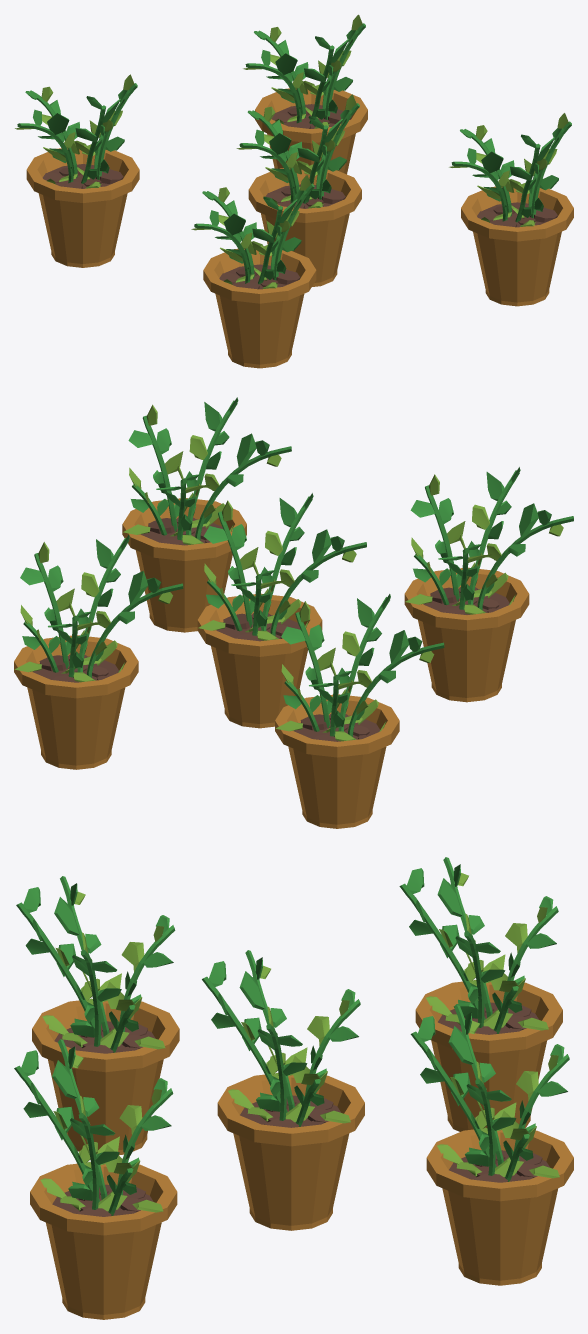
File: rose_1.gltf
The picture shows the model from 3 angles, top to bottom: view 1: azimuth 30°, elevation 25°; view 2: azimuth 150°, elevation 25°; view 3: azimuth 270°, elevation 25°; orthographic projection. The views are drawn at different scales.
Parts seen in each view (by area): view 1: node_MeshObject-1927842816-PolyPaper19.002, node_MeshObject-1927842816-PolyPaper19.003, node_MeshObject-1927842816-PolyPaper19.004, node_MeshObject-1927842816-PolyPaper19, node_MeshObject-1927842816-PolyPaper19.001; view 2: node_MeshObject-1927842816-PolyPaper19.001, node_MeshObject-1927842816-PolyPaper19.003, node_MeshObject-1927842816-PolyPaper19.002, node_MeshObject-1927842816-PolyPaper19, node_MeshObject-1927842816-PolyPaper19.004; view 3: node_MeshObject-1927842816-PolyPaper19.004, node_MeshObject-1927842816-PolyPaper19.001, node_MeshObject-1927842816-PolyPaper19, node_MeshObject-1927842816-PolyPaper19.002, node_MeshObject-1927842816-PolyPaper19.003.
Boxes of the visible parts, x1=… form: node_MeshObject-1927842816-PolyPaper19.002: x1=191, y1=175, x2=316, y2=368; node_MeshObject-1927842816-PolyPaper19.003: x1=15, y1=74, x2=139, y2=267; node_MeshObject-1927842816-PolyPaper19.004: x1=449, y1=113, x2=573, y2=306; node_MeshObject-1927842816-PolyPaper19: x1=236, y1=94, x2=361, y2=286; node_MeshObject-1927842816-PolyPaper19.001: x1=243, y1=14, x2=367, y2=174; node_MeshObject-1927842816-PolyPaper19.001: x1=14, y1=534, x2=183, y2=769; node_MeshObject-1927842816-PolyPaper19.003: x1=275, y1=594, x2=444, y2=828; node_MeshObject-1927842816-PolyPaper19.002: x1=404, y1=467, x2=573, y2=702; node_MeshObject-1927842816-PolyPaper19: x1=197, y1=493, x2=366, y2=728; node_MeshObject-1927842816-PolyPaper19.004: x1=122, y1=397, x2=291, y2=632; node_MeshObject-1927842816-PolyPaper19.004: x1=14, y1=1039, x2=177, y2=1319; node_MeshObject-1927842816-PolyPaper19.001: x1=410, y1=1005, x2=573, y2=1285; node_MeshObject-1927842816-PolyPaper19: x1=202, y1=950, x2=364, y2=1230; node_MeshObject-1927842816-PolyPaper19.002: x1=16, y1=876, x2=179, y2=1155; node_MeshObject-1927842816-PolyPaper19.003: x1=399, y1=857, x2=562, y2=1131.
Bounding box in the file's own units: 2.98 × 1.25 × 2.66.
